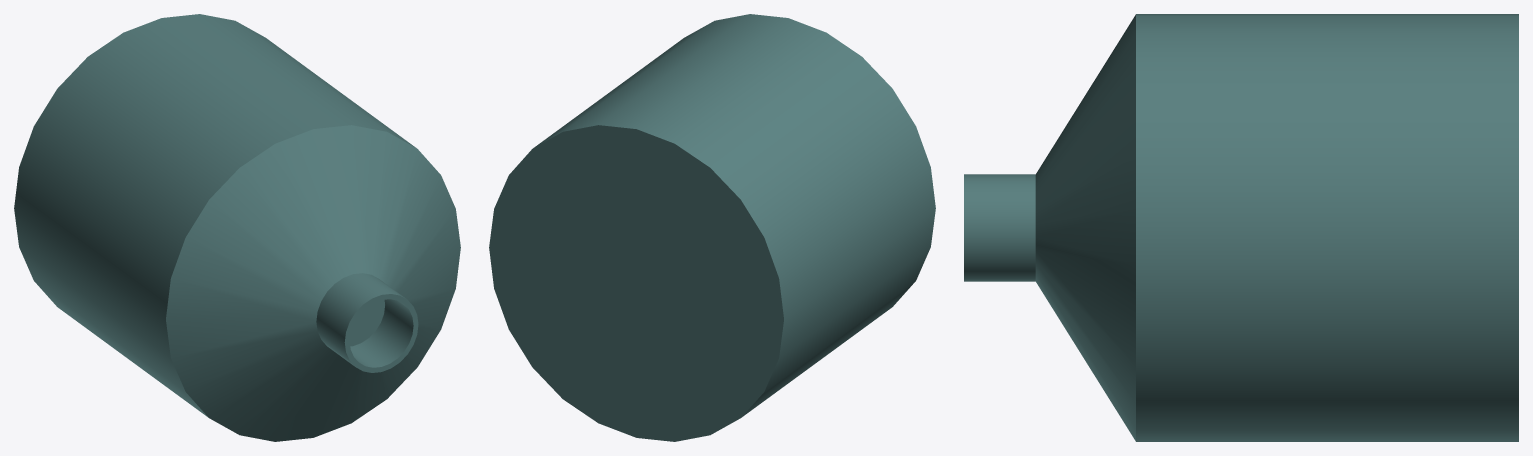
The model's file is bottle_2.dae.
3 renders of one model, left to right at view 1: azimuth 30°, elevation 25°; view 2: azimuth 150°, elevation 25°; view 3: azimuth 270°, elevation 25°, orthographic. The views are drawn at different scales.
Visible parts, largest first — view 1: coords_ME_ID3_MA_material_2, coords_ME_ID11_MA_material_2; view 2: coords_ME_ID3_MA_material_2; view 3: coords_ME_ID3_MA_material_2.
Boxes of the visible parts, x1=… form: coords_ME_ID3_MA_material_2: x1=14, y1=14, x2=460, y2=441; coords_ME_ID11_MA_material_2: x1=349, y1=299, x2=413, y2=367; coords_ME_ID3_MA_material_2: x1=489, y1=14, x2=935, y2=441; coords_ME_ID3_MA_material_2: x1=964, y1=14, x2=1518, y2=441.
Bounding box in the file's own units: 5.95 × 5.95 × 7.69.
